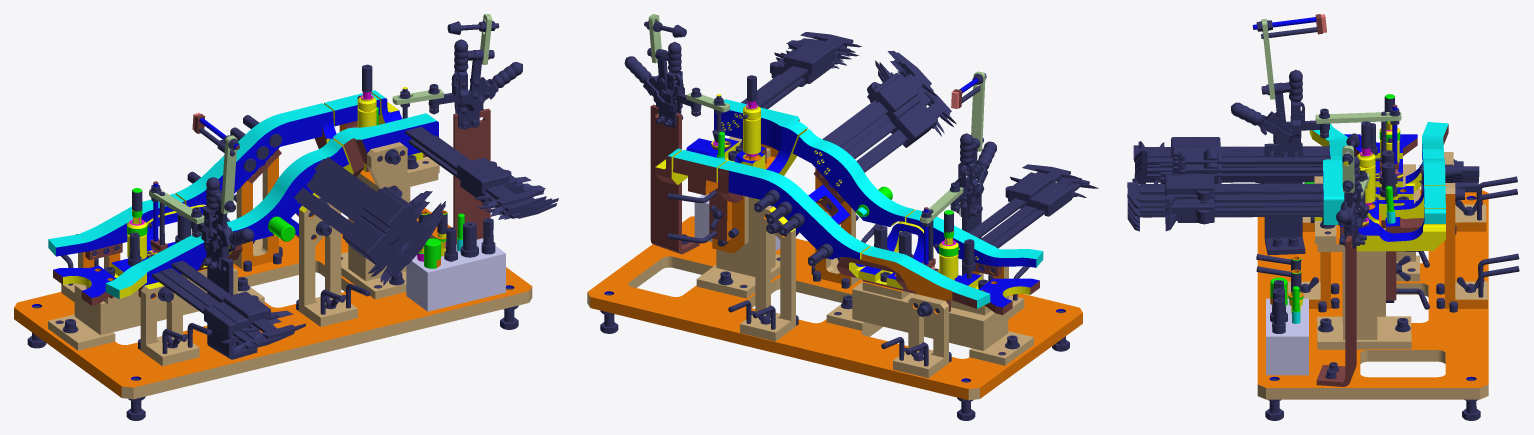
The model's file is TE145940_48711_2-02220_150_K00_260508_KEN.obj.
The picture shows the model from 3 angles, left to right: view 1: azimuth 30°, elevation 25°; view 2: azimuth 150°, elevation 25°; view 3: azimuth 270°, elevation 25°; orthographic projection. The views are drawn at different scales.
Visible parts, largest first — view 1: Shell_000, Shell_229, Shell_174, Shell_207, Shell_208, Shell_192, Shell_125, Shell_158, Shell_193, Shell_095, Shell_172, Shell_093 (+35 smaller); view 2: Shell_000, Shell_174, Shell_208, Shell_172, Shell_125, Shell_011, Shell_158, Shell_157, Shell_193, Shell_017, Shell_095, Shell_016 (+35 smaller); view 3: Shell_000, Shell_229, Shell_085, Shell_082, Shell_125, Shell_172, Shell_084, Shell_058, Shell_334, Shell_095, Shell_310, Shell_318 (+37 smaller).
Part boxes in pixels (x1,y1,x2,y2): Shell_000: (14,208,532,399); Shell_229: (406,238,505,311); Shell_174: (175,106,322,206); Shell_207: (299,193,357,326); Shell_208: (226,138,348,241); Shell_192: (140,282,199,366); Shell_125: (453,108,490,244); Shell_158: (48,193,184,260); Shell_193: (105,232,211,298); Shell_095: (343,113,438,164); Shell_172: (232,148,278,268); Shell_093: (367,142,439,187); Shell_000: (587,216,1082,400); Shell_174: (728,163,870,259); Shell_208: (793,129,914,226); Shell_172: (740,205,795,341); Shell_125: (650,104,699,254); Shell_011: (853,283,993,350); Shell_158: (861,246,990,311); Shell_157: (893,294,948,378); Shell_193: (906,209,1043,276); Shell_017: (837,221,933,293); Shell_095: (714,99,799,150); Shell_016: (954,273,1039,314); Shell_000: (1257,189,1488,399); Shell_229: (1266,298,1308,375); Shell_085: (1339,202,1445,251); Shell_082: (1342,251,1377,339); Shell_125: (1316,235,1356,386); Shell_172: (1444,183,1487,308); Shell_084: (1317,316,1411,349); Shell_058: (1264,142,1305,255); Shell_334: (1127,194,1323,216); Shell_095: (1323,159,1344,224); Shell_310: (1127,178,1323,205); Shell_318: (1127,185,1323,208).
Bounding box in the file's own units: 589 × 359 × 458.
